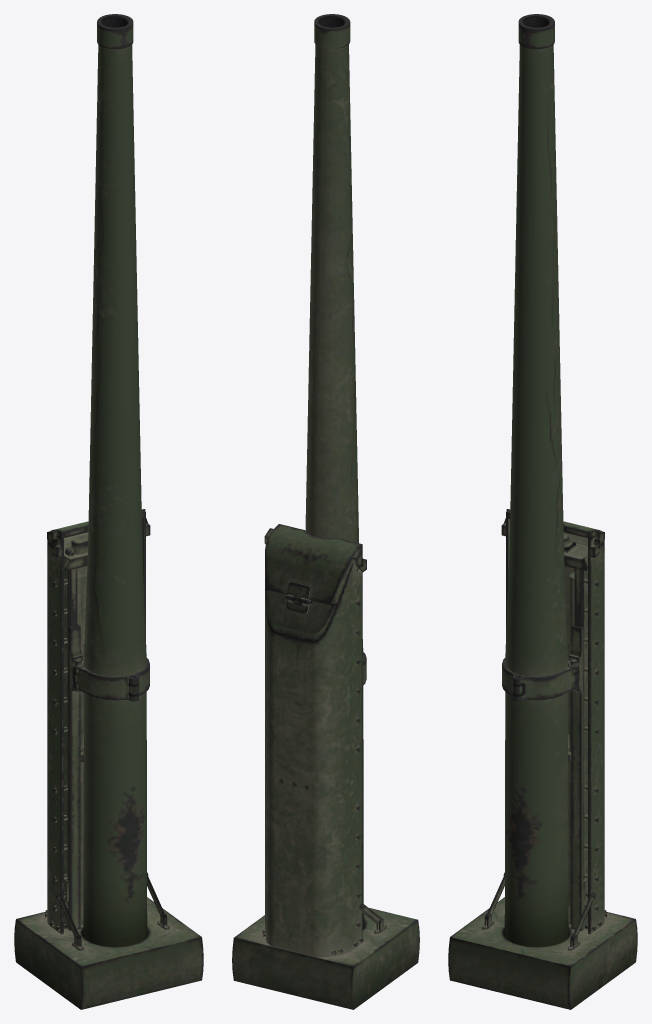
Rendered from Gun_03.glb.
The picture shows the model from 3 angles, left to right: view 1: azimuth 30°, elevation 25°; view 2: azimuth 150°, elevation 25°; view 3: azimuth 330°, elevation 25°; orthographic projection.
Visible parts, largest first — view 1: set_0_group_0; view 2: set_0_group_0; view 3: set_0_group_0.
Boxes of the visible parts, box(x1,y1,x2,y2) form: set_0_group_0: box(14, 14, 203, 1009); set_0_group_0: box(232, 14, 419, 1009); set_0_group_0: box(448, 14, 637, 1009).
Size of the model in its own units: 0.5691 by 4.29 by 0.5596.
Materials: 1 (1 with a texture image).
